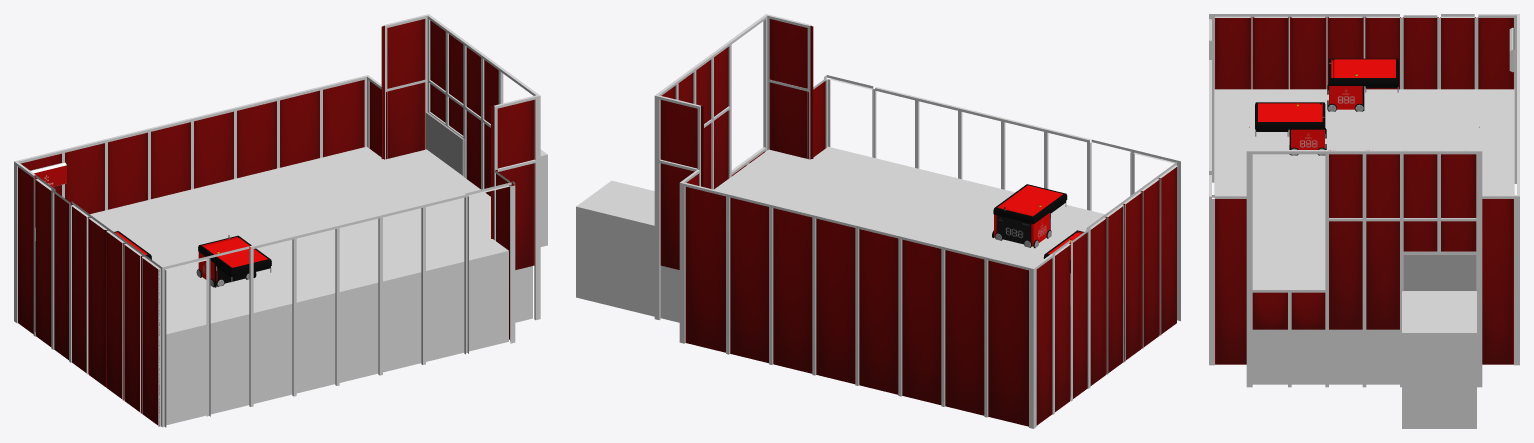
Rendered from sample.gltf.
The picture shows the model from 3 angles, left to right: view 1: azimuth 30°, elevation 25°; view 2: azimuth 150°, elevation 25°; view 3: azimuth 270°, elevation 25°; orthographic projection. The views are drawn at different scales.
Visible parts, largest first — view 1: 立方体, Switch_Group_PositionAttitudeTransform_Group_db_WN_WNSh_c5c6, 立方体_1, Switch_Group_MatrixTransform_Group_db_HW1_HW1Shape_Geometry_, Switch_Group_MatrixTransform_PositionAttitudeTransform__9c05, Switch_Group_MatrixTransform_PositionAttitudeTransform__7613; view 2: Switch_Group_PositionAttitudeTransform_Group_db_WN_WNSh_c5c6, 立方体, 立方体_1, Switch_Group_MatrixTransform_PositionAttitudeTransform__9c05, Switch_Group_MatrixTransform_PositionAttitudeTransform__7613, Switch_Group_MatrixTransform_PositionAttitudeTransform__3cea; view 3: Switch_Group_PositionAttitudeTransform_Group_db_WN_WNSh_c5c6, 立方体, 立方体_1, Switch_Group_MatrixTransform_Group_db_HW1_HW1Shape_Geometry_, Switch_Group_MatrixTransform_PositionAttitudeTransform__9c05, Switch_Group_MatrixTransform_PositionAttitudeTransform__d10e, Switch_Group_MatrixTransform_PositionAttitudeTransform__7613, Switch_Group_MatrixTransform_PositionAttitudeTransform__486f, Switch_Group_MatrixTransform_PositionAttitudeTransform__0a85, Switch_Group_MatrixTransform_PositionAttitudeTransform__905a.
Boxes of the visible parts, bbox=[...] form: 立方体: bbox=[35, 146, 547, 425]; Switch_Group_PositionAttitudeTransform_Group_db_WN_WNSh_c5c6: bbox=[18, 19, 534, 426]; 立方体_1: bbox=[14, 14, 540, 427]; Switch_Group_MatrixTransform_Group_db_HW1_HW1Shape_Geometry_: bbox=[425, 112, 464, 175]; Switch_Group_MatrixTransform_PositionAttitudeTransform__9c05: bbox=[202, 236, 267, 267]; Switch_Group_MatrixTransform_PositionAttitudeTransform__7613: bbox=[198, 235, 271, 275]; Switch_Group_PositionAttitudeTransform_Group_db_WN_WNSh_c5c6: bbox=[660, 19, 1176, 426]; 立方体: bbox=[576, 146, 1104, 396]; 立方体_1: bbox=[654, 14, 1180, 428]; Switch_Group_MatrixTransform_PositionAttitudeTransform__9c05: bbox=[997, 185, 1062, 216]; Switch_Group_MatrixTransform_PositionAttitudeTransform__7613: bbox=[993, 184, 1067, 223]; Switch_Group_MatrixTransform_PositionAttitudeTransform__3cea: bbox=[996, 215, 1030, 244]; Switch_Group_PositionAttitudeTransform_Group_db_WN_WNSh_c5c6: bbox=[1215, 17, 1513, 364]; 立方体: bbox=[1214, 89, 1514, 428]; 立方体_1: bbox=[1209, 14, 1519, 387]; Switch_Group_MatrixTransform_Group_db_HW1_HW1Shape_Geometry_: bbox=[1403, 255, 1476, 290]; Switch_Group_MatrixTransform_PositionAttitudeTransform__9c05: bbox=[1258, 103, 1322, 121]; Switch_Group_MatrixTransform_PositionAttitudeTransform__d10e: bbox=[1331, 59, 1395, 77]; Switch_Group_MatrixTransform_PositionAttitudeTransform__7613: bbox=[1255, 102, 1325, 129]; Switch_Group_MatrixTransform_PositionAttitudeTransform__486f: bbox=[1328, 58, 1398, 85]; Switch_Group_MatrixTransform_PositionAttitudeTransform__0a85: bbox=[1329, 86, 1362, 109]; Switch_Group_MatrixTransform_PositionAttitudeTransform__905a: bbox=[1291, 129, 1324, 149].
Size of the model in its own units: 7.84 by 3.5 by 4.18.
Materials: 12 (5 with a texture image).
